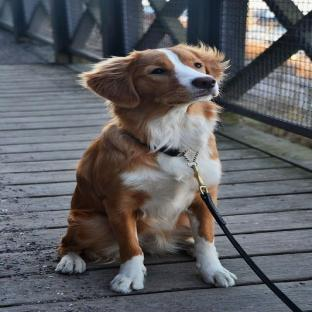Animal: (56, 43, 236, 293)
